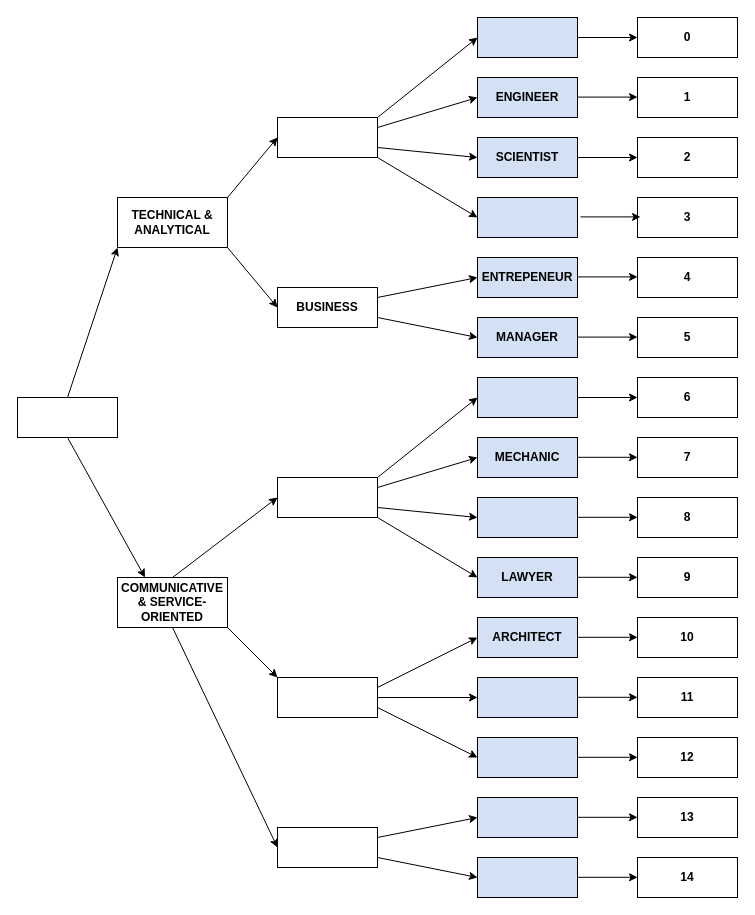
Some shapes in this 755 by 915 pixel diagram are drawn without their labels. The shapes that lost their labels are listed below. From the top down, each one's centre as x and y in pixels, then its label:
At [527,37]: "DEVELOPER".
At [327,137]: "STEM".
At [527,217]: "DOCTOR".
At [67,417]: "OCCUPATION".
At [527,397]: "ACCOUNTANT".
At [327,497]: "SERVICES".
At [527,517]: "TEACHER".
At [327,697]: "CREATIVE".
At [527,697]: "WRITER".
At [527,757]: "MUSICIAN".
At [527,817]: "MEDIA MANAGER".
At [327,847]: "MEDIA".
At [527,877]: "JOURNALIST".
